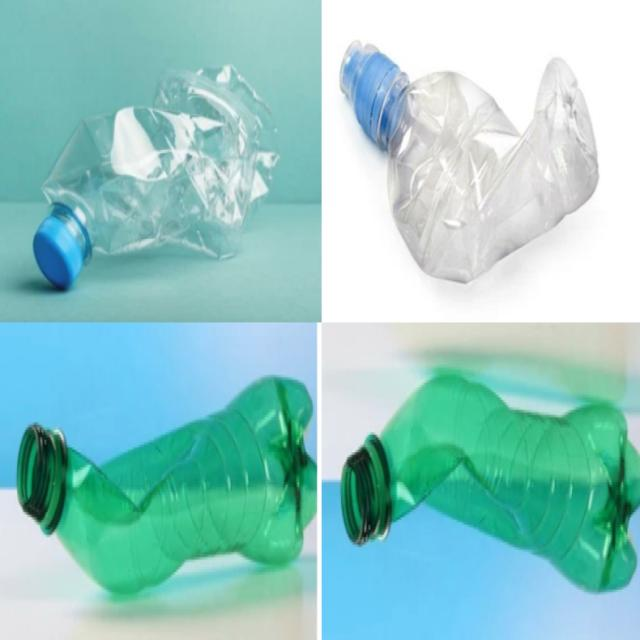plastik: (342, 374, 640, 590), (18, 377, 317, 592), (341, 41, 598, 282), (33, 67, 276, 289)
